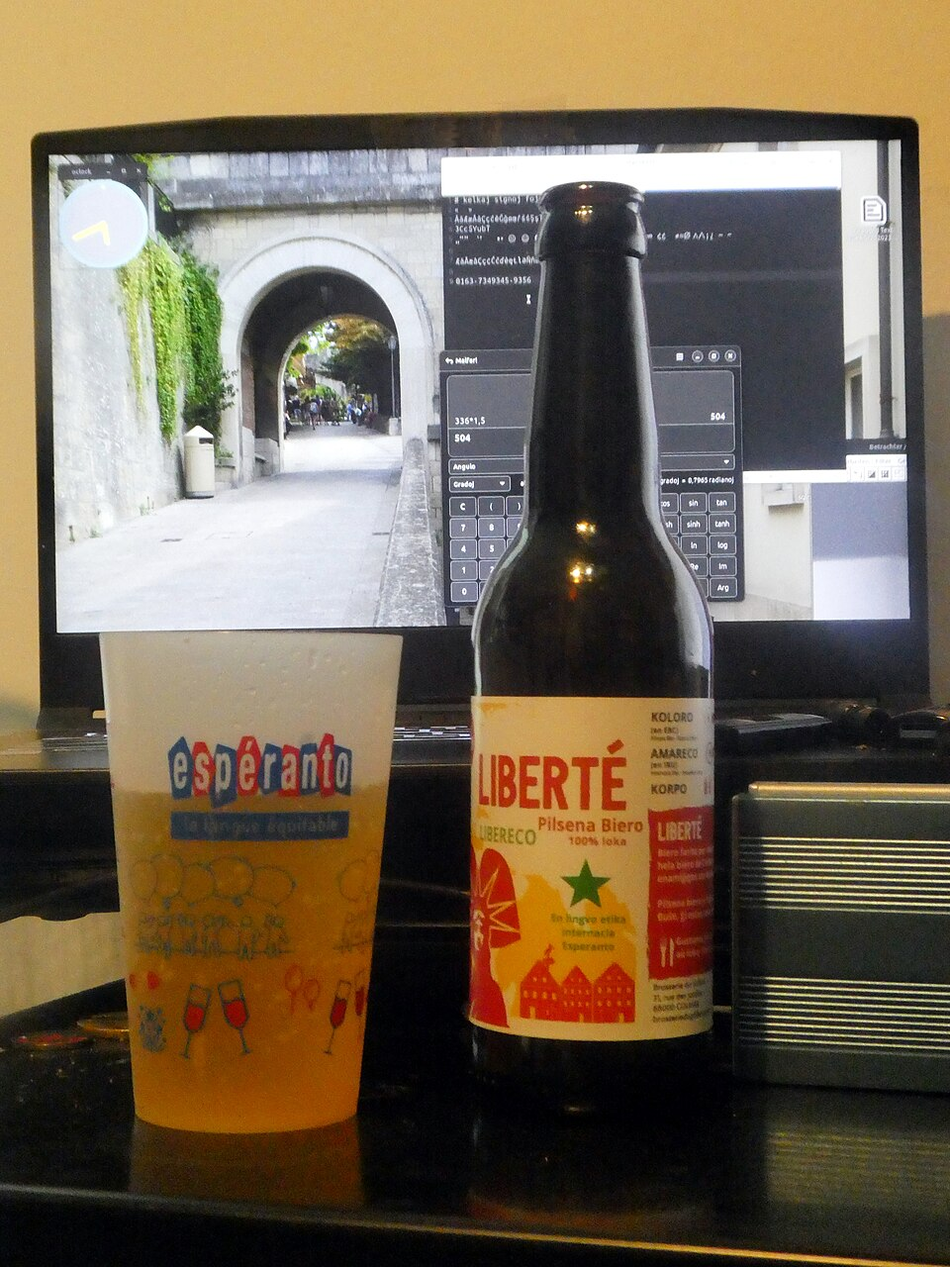beer-bottle: (467, 174, 718, 1124)
